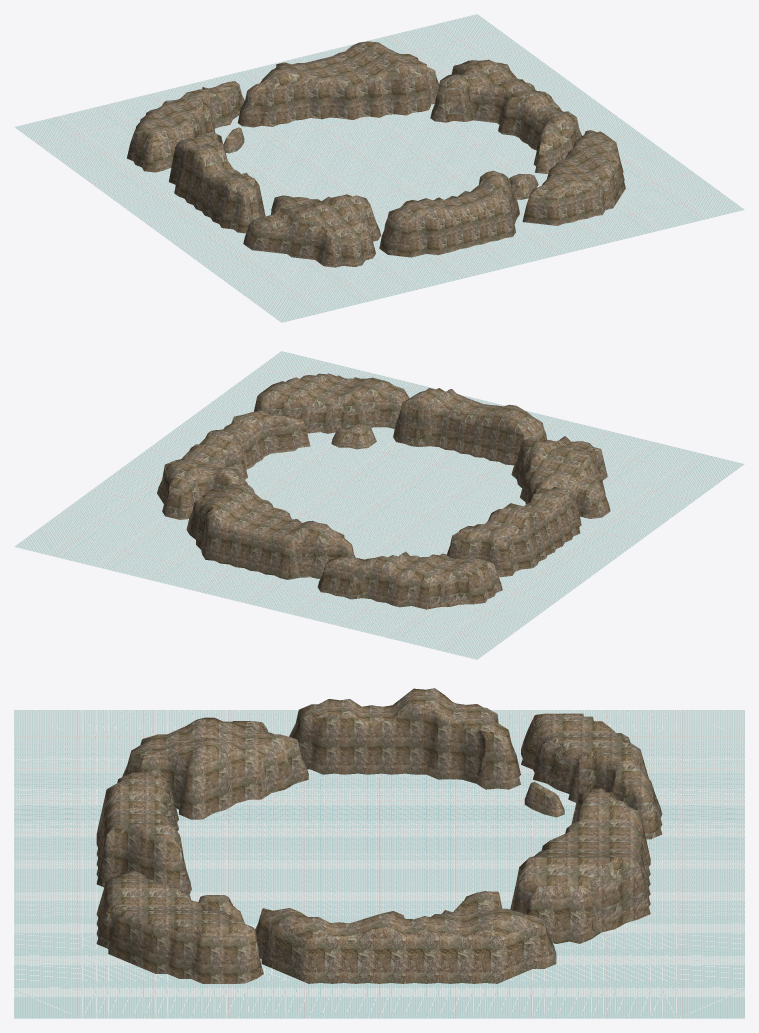
The model's file is map41.fbx.
The picture shows the model from 3 angles, top to bottom: view 1: azimuth 30°, elevation 25°; view 2: azimuth 150°, elevation 25°; view 3: azimuth 270°, elevation 25°; orthographic projection. The views are drawn at different scales.
Parts seen in each view (by area): view 1: map40:Layer1, map40:Layer8, map40:Layer2, map40:Layer4, map40:Layer5, map40:Layer3, map40:Layer6, map40:Layer7, map40:Layer9; view 2: map40:Layer1, map40:Layer8, map40:Layer7, map40:Layer2, map40:Layer4, map40:Layer6, map40:Layer3, map40:Layer5, map40:Layer9; view 3: map40:Layer1, map40:Layer2, map40:Layer6, map40:Layer8, map40:Layer3, map40:Layer5, map40:Layer7, map40:Layer4, map40:Layer10, map40:Layer9.
Boxes of the visible parts, bbox=[...] form: map40:Layer1: bbox=[14, 14, 744, 322]; map40:Layer8: bbox=[237, 41, 439, 127]; map40:Layer2: bbox=[430, 59, 582, 173]; map40:Layer4: bbox=[379, 170, 519, 257]; map40:Layer5: bbox=[243, 194, 381, 267]; map40:Layer3: bbox=[522, 130, 625, 225]; map40:Layer6: bbox=[169, 130, 265, 233]; map40:Layer7: bbox=[127, 81, 244, 172]; map40:Layer9: bbox=[509, 173, 538, 199]; map40:Layer1: bbox=[14, 351, 744, 659]; map40:Layer8: bbox=[186, 483, 355, 579]; map40:Layer7: bbox=[317, 551, 502, 609]; map40:Layer2: bbox=[157, 411, 310, 519]; map40:Layer4: bbox=[393, 388, 547, 465]; map40:Layer6: bbox=[447, 487, 581, 577]; map40:Layer3: bbox=[254, 373, 409, 433]; map40:Layer5: bbox=[511, 436, 610, 518]; map40:Layer9: bbox=[331, 423, 376, 449]; map40:Layer1: bbox=[14, 710, 744, 1018]; map40:Layer2: bbox=[255, 891, 556, 983]; map40:Layer6: bbox=[289, 688, 520, 789]; map40:Layer8: bbox=[510, 788, 650, 943]; map40:Layer3: bbox=[96, 870, 263, 983]; map40:Layer5: bbox=[122, 717, 308, 819]; map40:Layer7: bbox=[521, 713, 662, 839]; map40:Layer4: bbox=[96, 772, 191, 897]; map40:Layer10: bbox=[524, 781, 564, 817]; map40:Layer9: bbox=[198, 895, 244, 923].
Size of the model in its own units: 3.1 by 0.2975 by 3.1.
Materials: 3 (3 with a texture image).
